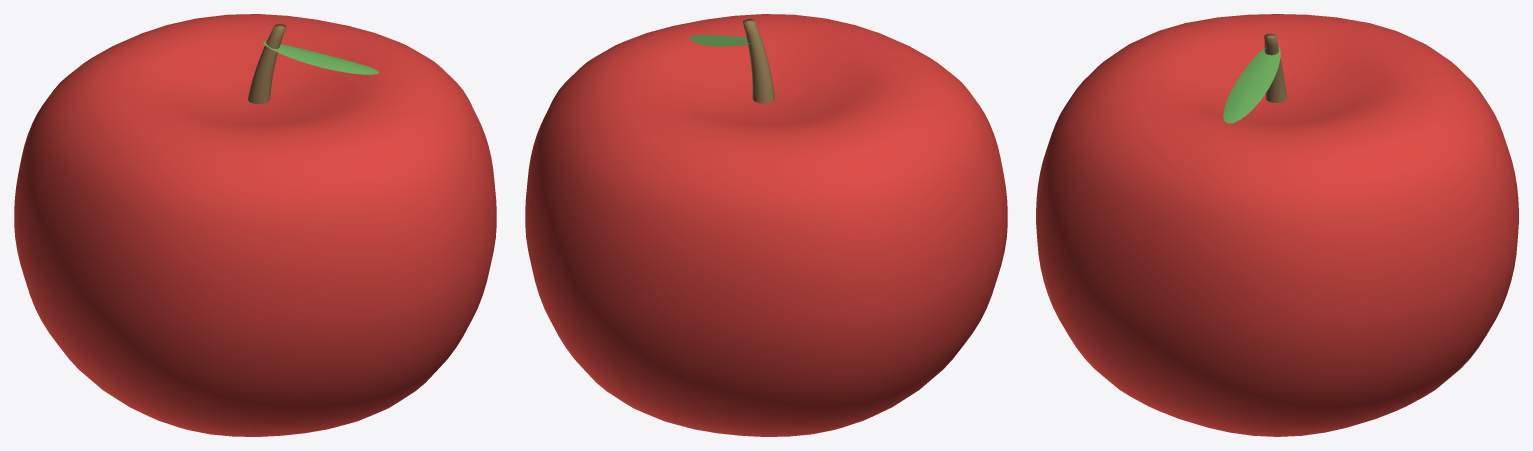
File: apple.glb
3 views of the same model, side by side, from view 1: azimuth 30°, elevation 25°; view 2: azimuth 150°, elevation 25°; view 3: azimuth 270°, elevation 25° (orthographic).
Parts seen in each view (by area): view 1: apple; view 2: apple; view 3: apple.
Part boxes in pixels (box(x1,y1,x2,y2)): apple: box(14, 14, 496, 436); apple: box(525, 14, 1007, 436); apple: box(1036, 14, 1518, 436).
Size of the model in its own units: 2.03 by 1.71 by 2.03.
